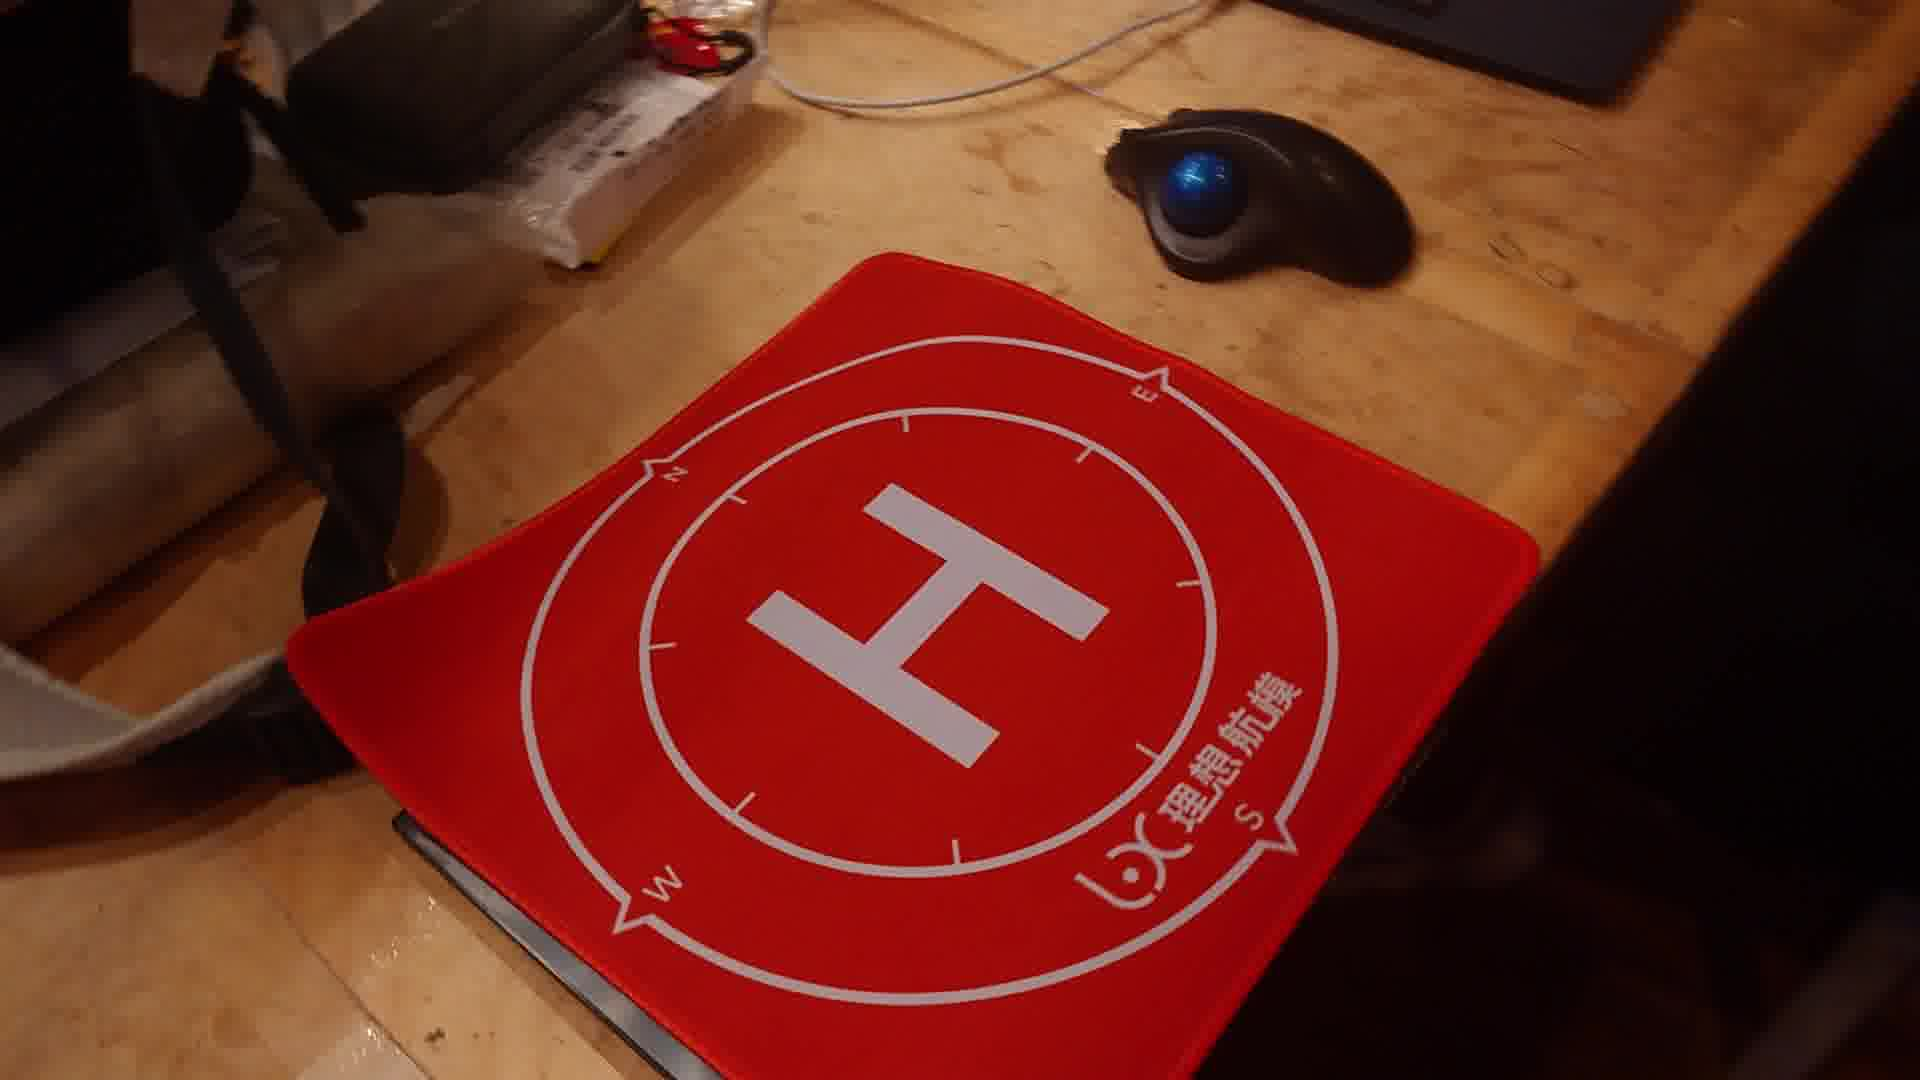H: (745, 481, 1114, 775)
